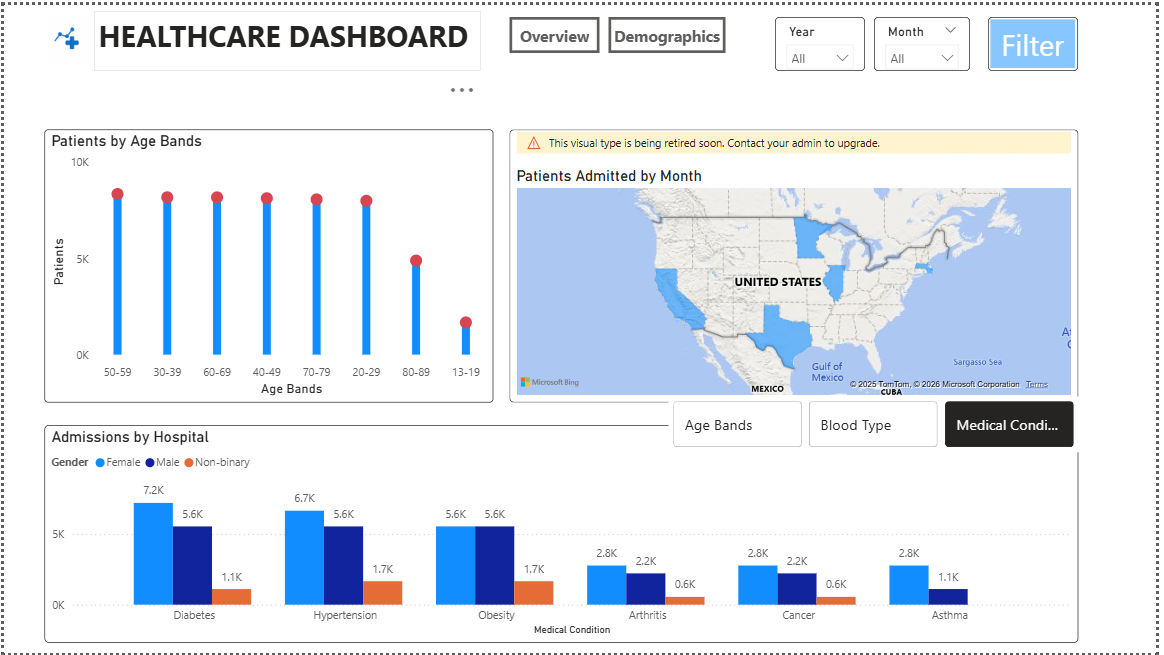

What the dashboard file says about the page in this screenshot:
{"tool":"powerbi","page":{"name":"Page 2","canvas":[1280,720],"ordinal":1},"visuals":[{"type":"slicer","fields":{"Values":["DateTable.Year"]},"box":[856.7,13.3,100,60],"z":4000},{"type":"slicer","fields":{"Values":["DateTable.Month"]},"box":[966.7,13.3,106.7,60],"z":5000},{"type":"lineChart","fields":{"Category":["Dim Patient.Age Bands"],"Y":["DAX Measures.Patients"]},"box":[45,138.3,498.3,303.3],"z":6000},{"type":"filledMap","fields":{"Category":["Dim Hospital.Custom"]},"box":[561.7,138.3,631.7,303.3],"z":7000},{"type":"advancedSlicerVisual","fields":{"Values":["Parameter.Parameter"]},"box":[1056.7,453.3,136.7,50],"z":8000},{"type":"clusteredColumnChart","title":"Admissions by Hospital","fields":{"Y":["DAX Measures.Patients"],"Category":["Dim Patient.Medical Condition"],"Series":["Dim Patient.Gender"]},"box":[45,466.7,1148.3,241.7],"z":9000},{"type":"actionButton","title":"Filter","box":[1092.5,12.5,100,60],"z":11000},{"type":"textbox","box":[100,6.7,430,66.7],"z":12000},{"type":"image","box":[38.3,1.7,61.7,71.7],"z":13000},{"type":"actionButton","box":[561.7,13.3,100,40],"z":14000},{"type":"actionButton","box":[671.4,12.9,130,40],"z":15000},{"type":"advancedSlicerVisual","fields":{"Values":["Parameter 3.Parameter"]},"box":[738.3,435,456.7,61.7],"z":15002}]}

Visuals, with their boxes in screenshot pixels (x1, y1, x2, y2), scaled from the page's 1280x720 canvas onto the 1164x655 screenshot:
slicer - DateTable.Year: 779,12,870,67
slicer - DateTable.Month: 879,12,976,67
lineChart - Dim Patient.Age Bands x DAX Measures.Patients: 41,126,494,402
filledMap - Dim Hospital.Custom: 511,126,1085,402
advancedSlicerVisual - Parameter.Parameter: 961,412,1085,458
"Admissions by Hospital" clusteredColumnChart: 41,425,1085,644
"Filter" actionButton: 993,11,1084,66
textbox: 91,6,482,67
image: 35,2,91,67
actionButton: 511,12,602,48
actionButton: 611,12,729,48
advancedSlicerVisual - Parameter 3.Parameter: 671,396,1087,452
